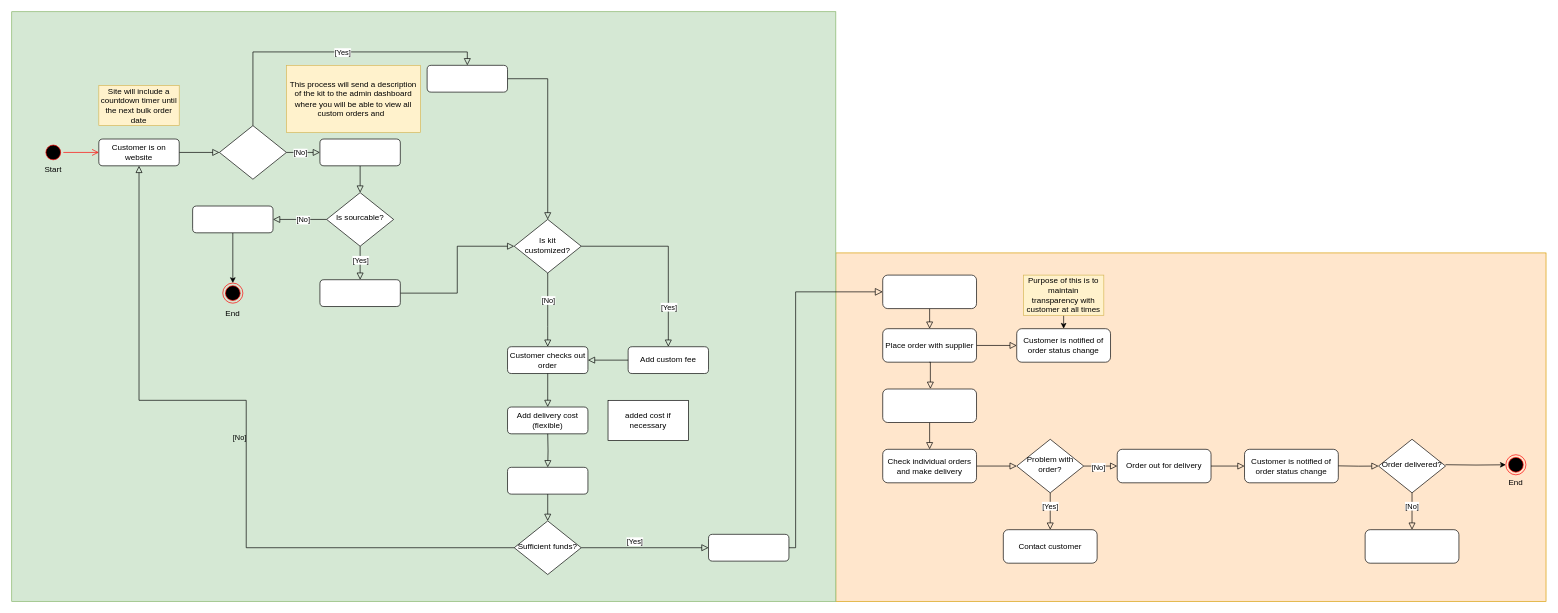
Some shapes in this 1558 by 613 pixel diagram are drawn without their labels. Each missing label, with the centre of its shape:
Add order to stock on hand tab for customers to view: the point at 1411,546
Bulk order received: the point at 929,405
Customer adds selected kits to cart: the point at 467,78
Customer is notified and Kit is added to cart: the point at 359,293
Customer makes payment: the point at 547,480
Customer receives receipt via email: the point at 748,547
Kit found on website?: the point at 252,152
Order is added to current month bulk order list: the point at 929,291
Place custom kit order: the point at 359,152
User is notified: the point at 232,219
